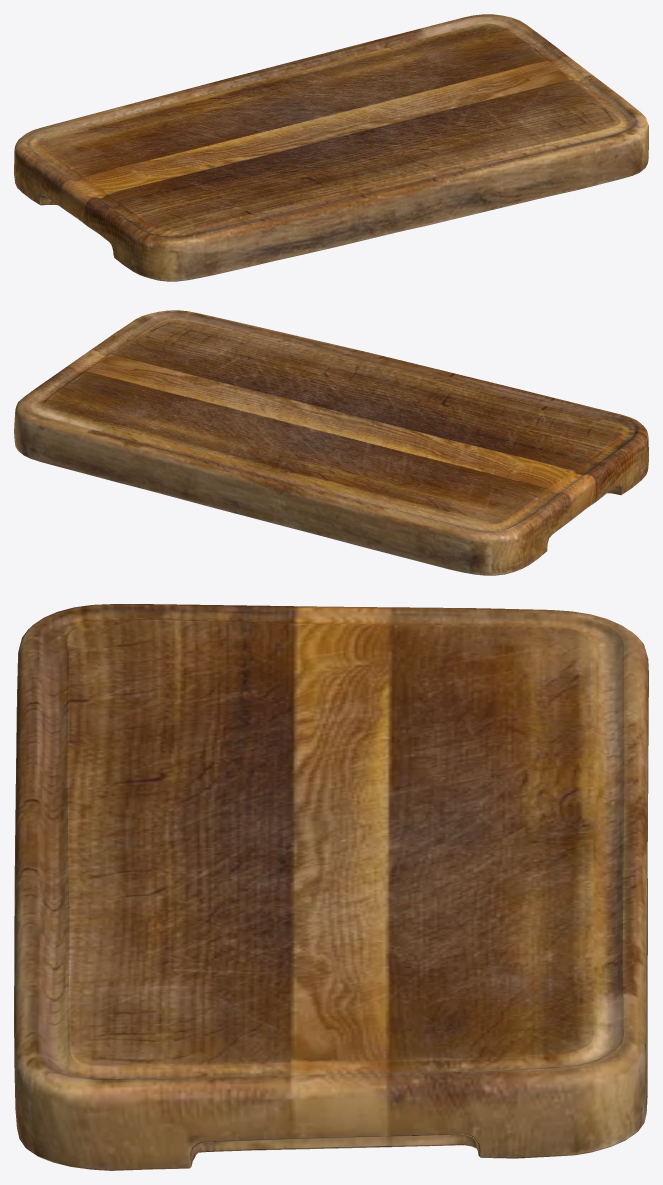
Rendered from wooden_cutting_board.glb.
The picture shows the model from 3 angles, top to bottom: view 1: azimuth 30°, elevation 25°; view 2: azimuth 150°, elevation 25°; view 3: azimuth 270°, elevation 25°; orthographic projection. The views are drawn at different scales.
Parts seen in each view (by area): view 1: wooden_cutting_board; view 2: wooden_cutting_board; view 3: wooden_cutting_board.
Boxes of the visible parts, left/top/right/bottom form: wooden_cutting_board: left=14, top=14, right=648, bottom=281; wooden_cutting_board: left=14, top=310, right=648, bottom=575; wooden_cutting_board: left=14, top=604, right=648, bottom=1170.
Size of the model in its own units: 0.4499 by 0.0412 by 0.2466.
Materials: 1 (1 with a texture image).
